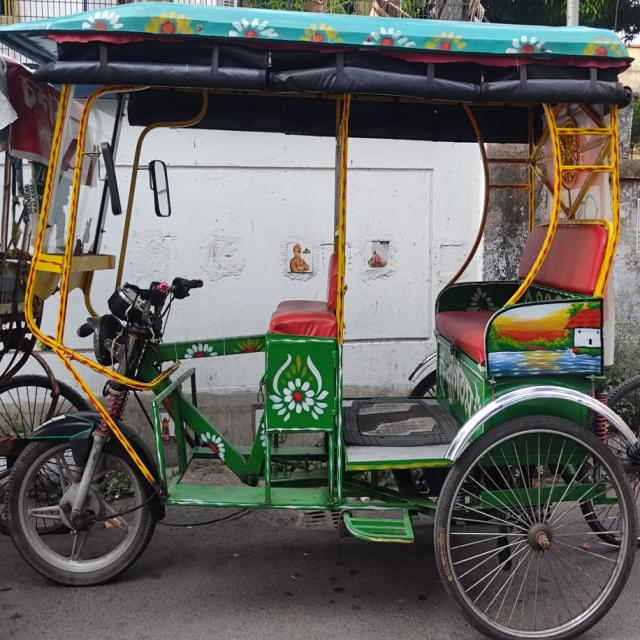rickshaw: (6, 1, 635, 640)
